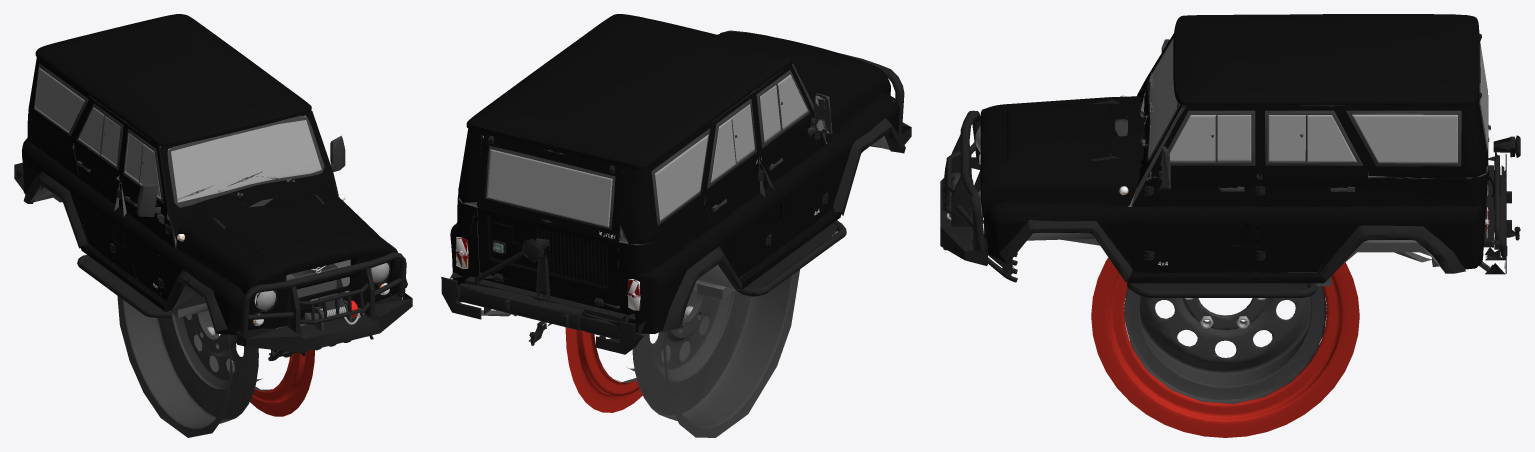
File: ranger.glb
3 renders of one model, left to right at view 1: azimuth 30°, elevation 25°; view 2: azimuth 150°, elevation 25°; view 3: azimuth 270°, elevation 25°, orthographic. The views are drawn at different scales.
Parts seen in each view (by area): view 1: paint:5, trim:7, rim:2, screen:14, trim:5, trim:8, glass:14, trim:11, rim:3; view 2: paint:5, rim:2, trim:7, glass:14, trim:5, trim:8, rim:3, trim:11, tail:6, trim:6; view 3: paint:5, trim:7, rim:2, rim:3, glass:14, trim:5, trim:8, trim:11, screen:14.
Boxes of the visible parts, x1,y1,x2,y2 form: paint:5: [22, 14, 399, 335]; trim:7: [14, 162, 412, 360]; rim:2: [117, 296, 271, 437]; screen:14: [168, 115, 389, 310]; trim:5: [28, 57, 336, 240]; trim:8: [34, 63, 351, 330]; glass:14: [35, 67, 161, 199]; trim:11: [30, 100, 360, 328]; rim:3: [250, 349, 314, 416]; paint:5: [450, 14, 899, 333]; rim:2: [614, 269, 799, 437]; trim:7: [441, 30, 911, 354]; glass:14: [480, 74, 808, 227]; trim:5: [458, 64, 814, 245]; trim:8: [484, 63, 832, 240]; rim:3: [565, 327, 642, 412]; trim:11: [458, 116, 889, 316]; tail:6: [456, 237, 640, 310]; trim:6: [456, 237, 640, 310]; paint:5: [980, 14, 1494, 283]; trim:7: [940, 33, 1520, 297]; rim:2: [1124, 286, 1326, 403]; rim:3: [1091, 257, 1359, 437]; glass:14: [1169, 46, 1487, 163]; trim:5: [1136, 33, 1488, 188]; trim:8: [949, 37, 1490, 217]; trim:11: [1027, 73, 1489, 286]; screen:14: [975, 38, 1180, 201].
Size of the model in its own units: 2.08 by 2.96 by 4.23.
Materials: 19 (1 with a texture image).
